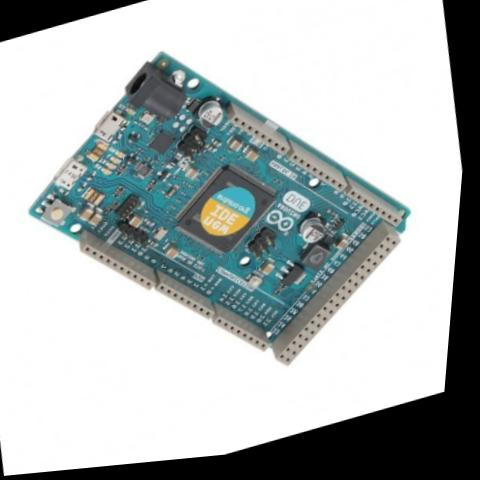Arduino-Due: (0, 0, 459, 448)
